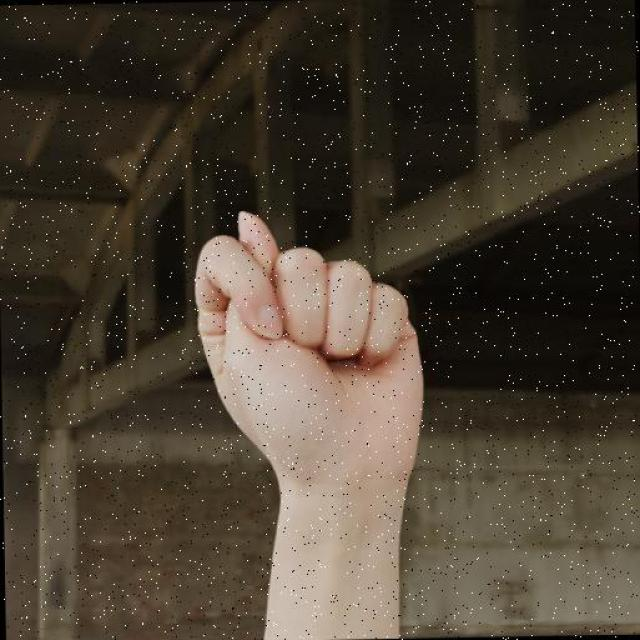T: (188, 205, 430, 496)
